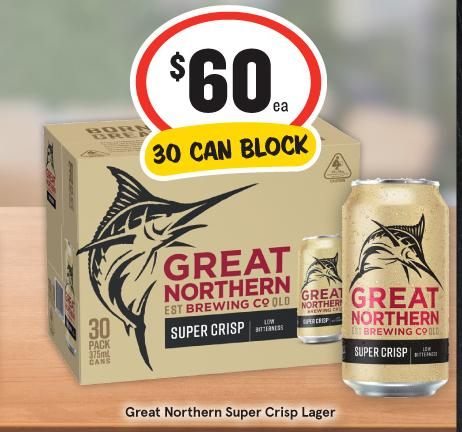description_block: (120, 402, 344, 426)
price_main: (131, 25, 327, 126)
product_image_block: (37, 129, 443, 400)
promo_text_block: (133, 126, 321, 167)
